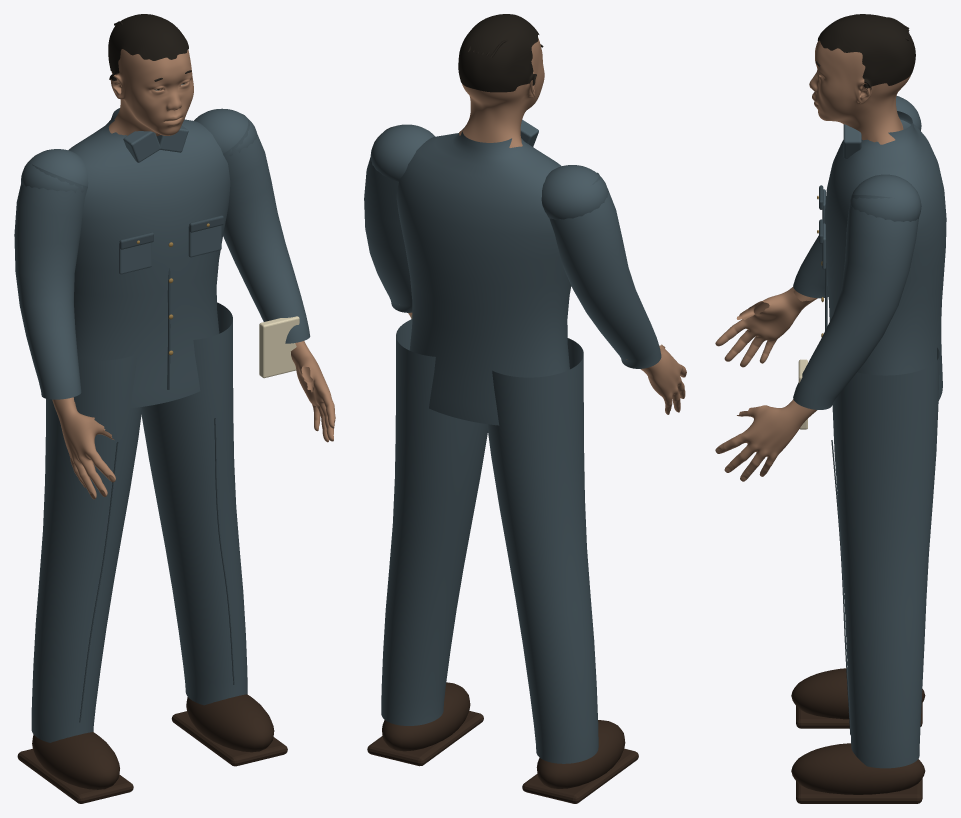
The model's file is audience.glb.
The picture shows the model from 3 angles, left to right: view 1: azimuth 30°, elevation 25°; view 2: azimuth 150°, elevation 25°; view 3: azimuth 270°, elevation 25°; orthographic projection.
Parts seen in each view (by area): view 1: structured jacket, loose pressed trousers, loose pressed trousers.001, continuous long sleeve, anatomical face neck and hands, continuous long sleeve.001, closed leather shoe, closed leather shoe.001, shaped hair scalp, rounded shoulder seam, notebook, rounded shoulder seam.001 (+5 smaller); view 2: structured jacket, loose pressed trousers, loose pressed trousers.001, continuous long sleeve, anatomical face neck and hands, shaped hair scalp, continuous long sleeve.001, rounded shoulder seam, closed leather shoe, closed leather shoe.001, rounded shoulder seam.001, shoe sole (+1 smaller); view 3: loose pressed trousers.001, structured jacket, anatomical face neck and hands, continuous long sleeve.001, shaped hair scalp, closed leather shoe.001, rounded shoulder seam.001, closed leather shoe, shoe sole.001, continuous long sleeve, shoe sole, pressed trouser crease.001 (+2 smaller).
Part boxes in pixels (x1=…): structured jacket: x1=68, y1=108, x2=230, y2=408; loose pressed trousers: x1=31, y1=354, x2=142, y2=742; loose pressed trousers.001: x1=141, y1=302, x2=247, y2=705; continuous long sleeve: x1=14, y1=164, x2=87, y2=399; anatomical face neck and hands: x1=52, y1=49, x2=335, y2=499; continuous long sleeve.001: x1=223, y1=114, x2=310, y2=343; closed leather shoe: x1=32, y1=732, x2=119, y2=789; closed leather shoe.001: x1=186, y1=694, x2=274, y2=752; shaped hair scalp: x1=108, y1=14, x2=188, y2=80; rounded shoulder seam: x1=21, y1=149, x2=88, y2=192; notebook: x1=259, y1=316, x2=299, y2=378; rounded shoulder seam.001: x1=194, y1=108, x2=257, y2=156; structured jacket: x1=396, y1=127, x2=571, y2=425; loose pressed trousers: x1=487, y1=338, x2=598, y2=763; loose pressed trousers.001: x1=381, y1=319, x2=487, y2=725; continuous long sleeve: x1=549, y1=172, x2=661, y2=368; anatomical face neck and hands: x1=408, y1=37, x2=686, y2=414; shaped hair scalp: x1=458, y1=14, x2=539, y2=92; continuous long sleeve.001: x1=364, y1=126, x2=412, y2=312; rounded shoulder seam: x1=541, y1=165, x2=608, y2=219; closed leather shoe: x1=536, y1=720, x2=625, y2=788; closed leather shoe.001: x1=382, y1=682, x2=470, y2=751; rounded shoulder seam.001: x1=370, y1=124, x2=434, y2=181; shoe sole: x1=522, y1=748, x2=638, y2=803; loose pressed trousers.001: x1=832, y1=347, x2=939, y2=768; structured jacket: x1=824, y1=111, x2=946, y2=400; anatomical face neck and hands: x1=715, y1=40, x2=910, y2=481; continuous long sleeve.001: x1=793, y1=195, x2=918, y2=409; shaped hair scalp: x1=817, y1=14, x2=915, y2=89; closed leather shoe.001: x1=791, y1=743, x2=925, y2=794; rounded shoulder seam.001: x1=849, y1=174, x2=921, y2=221; closed leather shoe: x1=791, y1=668, x2=925, y2=719; shoe sole.001: x1=796, y1=778, x2=922, y2=803; continuous long sleeve: x1=793, y1=235, x2=828, y2=298; shoe sole: x1=796, y1=703, x2=922, y2=728; pressed trouser crease.001: x1=831, y1=440, x2=850, y2=734.
Size of the model in its own units: 0.6494 by 1.74 by 0.4931.
